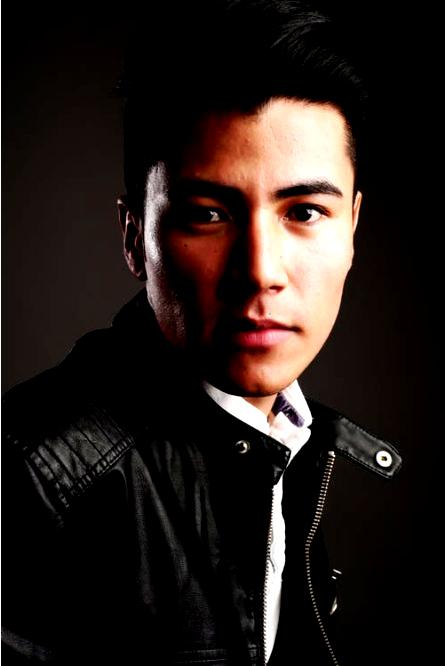face: (145, 105, 358, 398)
